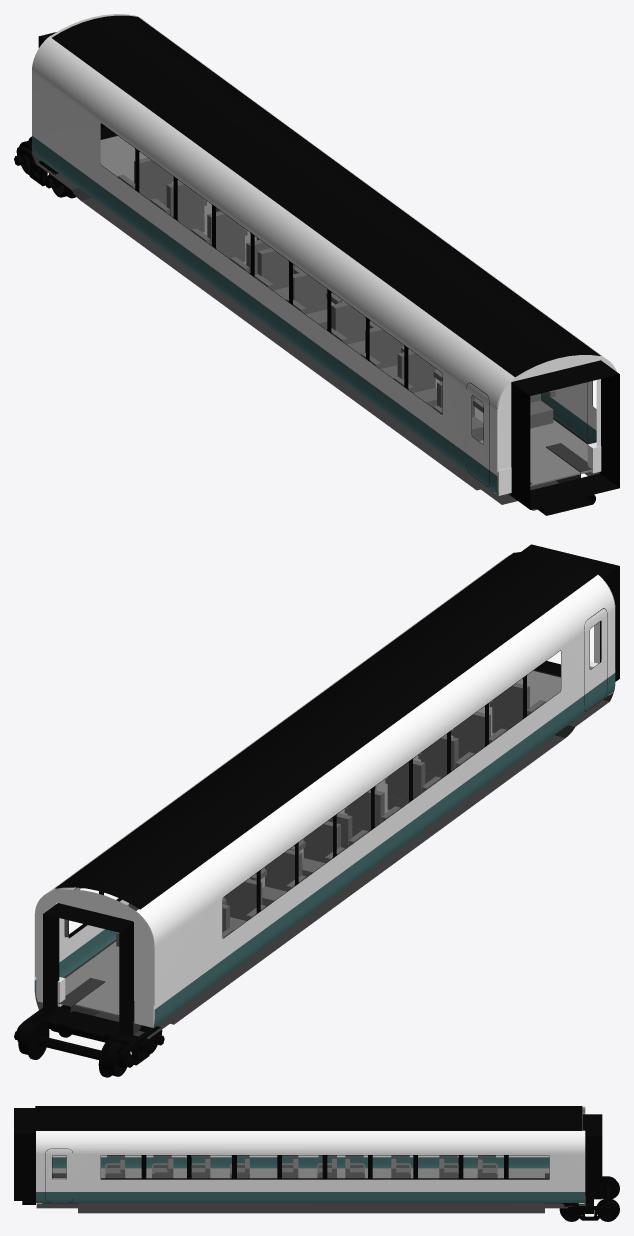
Rendered from hs_train_coach_car.glb.
The picture shows the model from 3 angles, top to bottom: view 1: azimuth 30°, elevation 25°; view 2: azimuth 150°, elevation 25°; view 3: azimuth 270°, elevation 25°; orthographic projection. The views are drawn at different scales.
Visible parts, largest first — view 1: SketchUp, Mesh_1621_1, Box, Box_2 (×2), Box_6, Box_22, Box_18, Box_54, Box_14, Box_26; view 2: SketchUp, Mesh_1621_1, Box, Box_54 (×2), Box_22, Box_6, Box_18, Box_10, Box_26, Box_2, Line004, Circle014 (+3 smaller); view 3: SketchUp, Mesh_1621_1, Box, Line004, Circle015, Circle014.
Boxes of the visible parts, bbox=[...] form: SketchUp: bbox=[31, 14, 619, 515]; Mesh_1621_1: bbox=[52, 15, 601, 377]; Box: bbox=[100, 136, 591, 486]; Box_2 (×2): bbox=[134, 157, 204, 223]; Box_6: bbox=[207, 211, 244, 253]; Box_22: bbox=[331, 302, 365, 344]; Box_18: bbox=[293, 272, 327, 314]; Box_54: bbox=[397, 350, 435, 392]; Box_14: bbox=[257, 248, 295, 290]; Box_26: bbox=[365, 326, 402, 368]; SketchUp: bbox=[34, 544, 619, 1038]; Mesh_1621_1: bbox=[55, 551, 598, 909]; Box: bbox=[65, 671, 560, 1016]; Box_54 (×2): bbox=[453, 683, 529, 753]; Box_22: bbox=[387, 760, 425, 801]; Box_6: bbox=[265, 849, 302, 891]; Box_18: bbox=[347, 790, 384, 831]; Box_10: bbox=[303, 821, 340, 863]; Box_26: bbox=[421, 735, 458, 777]; Box_2: bbox=[224, 879, 262, 920]; Line004: bbox=[16, 1008, 162, 1067]; Circle014: bbox=[18, 1021, 126, 1076]; SketchUp: bbox=[14, 1106, 602, 1213]; Mesh_1621_1: bbox=[35, 1106, 582, 1130]; Box: bbox=[52, 1168, 549, 1179]; Line004: bbox=[566, 1176, 612, 1220]; Circle015: bbox=[597, 1177, 619, 1216]; Circle014: bbox=[598, 1176, 617, 1221].
Size of the model in its own units: 3.01 by 3.86 by 22.06.
